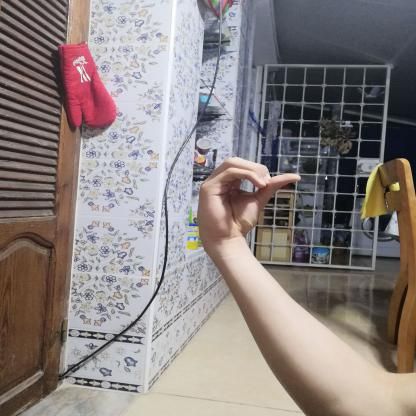WAW: (186, 151, 314, 249)
